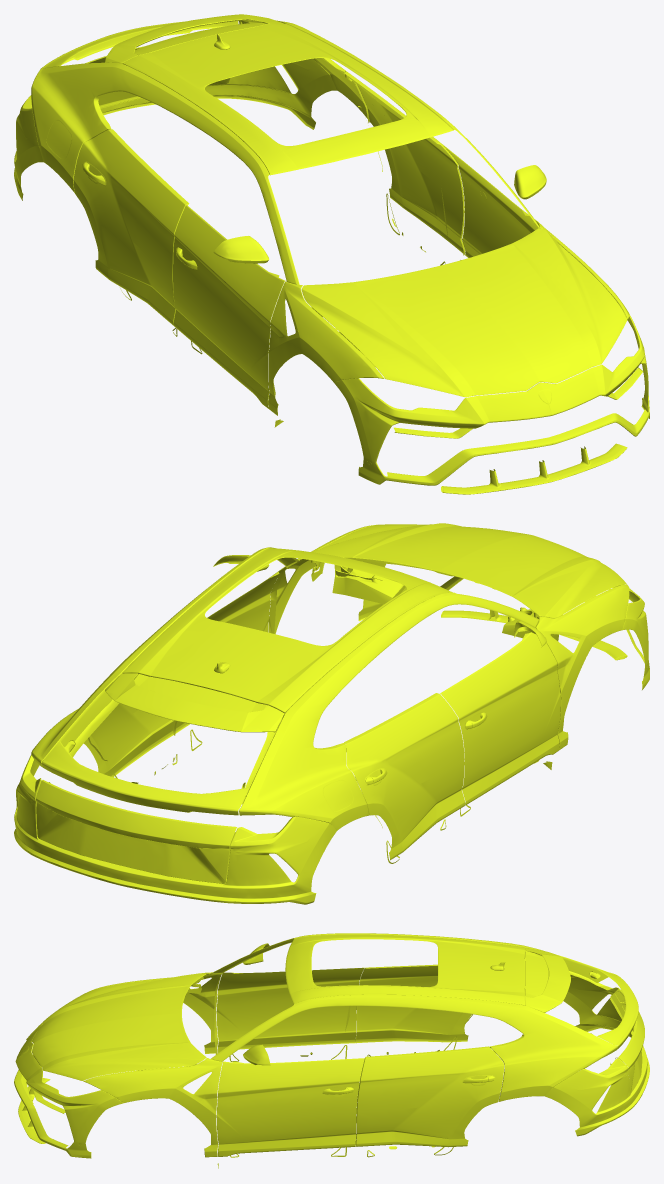
Rendered from kuzov.glb.
The picture shows the model from 3 angles, top to bottom: view 1: azimuth 30°, elevation 25°; view 2: azimuth 150°, elevation 25°; view 3: azimuth 270°, elevation 25°; orthographic projection. The views are drawn at different scales.
Parts seen in each view (by area): view 1: body:Paint_Geo_lodABody_lodA_Lamborghini_UrusRewardRecycled_; view 2: body:Paint_Geo_lodABody_lodA_Lamborghini_UrusRewardRecycled_; view 3: body:Paint_Geo_lodABody_lodA_Lamborghini_UrusRewardRecycled_.
Boxes of the visible parts, x1,y1,x2,y2 form: body:Paint_Geo_lodABody_lodA_Lamborghini_UrusRewardRecycled_: (14,14,649,494); body:Paint_Geo_lodABody_lodA_Lamborghini_UrusRewardRecycled_: (14,523,649,904); body:Paint_Geo_lodABody_lodA_Lamborghini_UrusRewardRecycled_: (14,933,649,1168).
Bounding box in the file's own units: 2.21 × 1.4 × 5.08.
